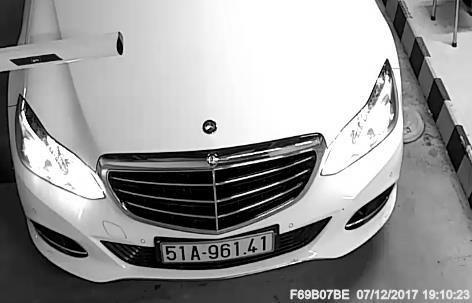License-plate: (154, 228, 289, 273)
